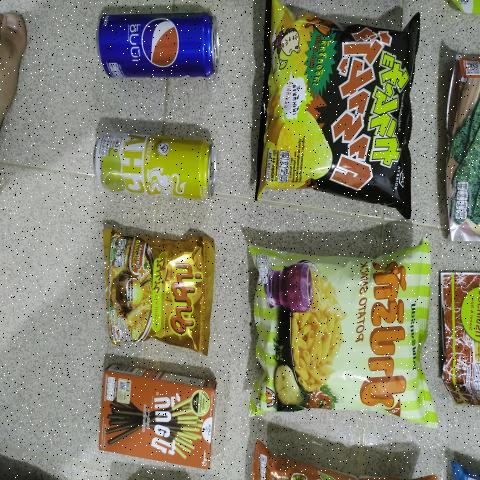karamujo: (266, 12, 420, 203)
mama: (101, 239, 210, 345)
paprika: (253, 260, 426, 412)
pepsi_blue: (95, 6, 219, 72)
pokki: (101, 378, 214, 455)
singha_yellow: (84, 135, 220, 198)
